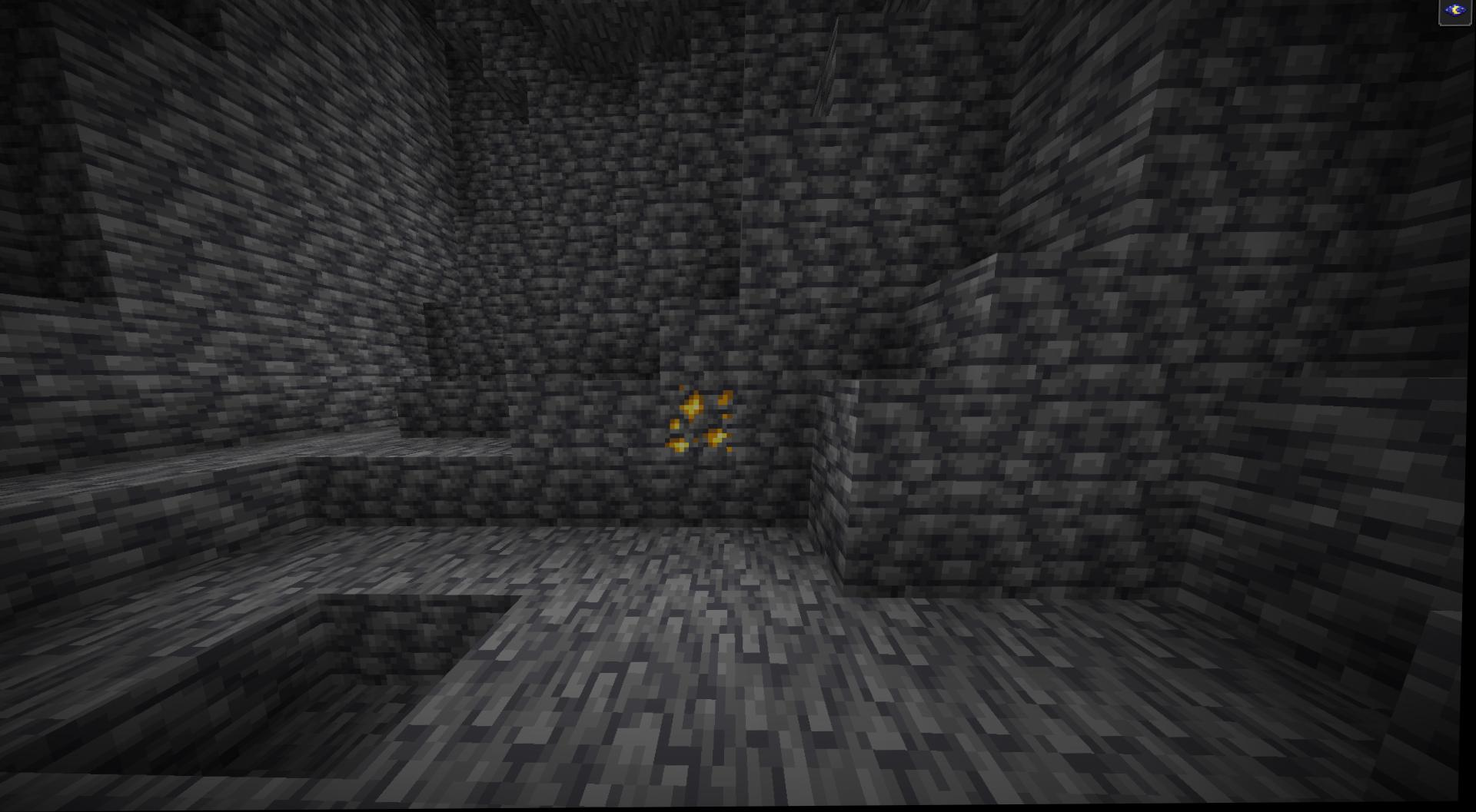gold ore: (659, 380, 740, 455)
